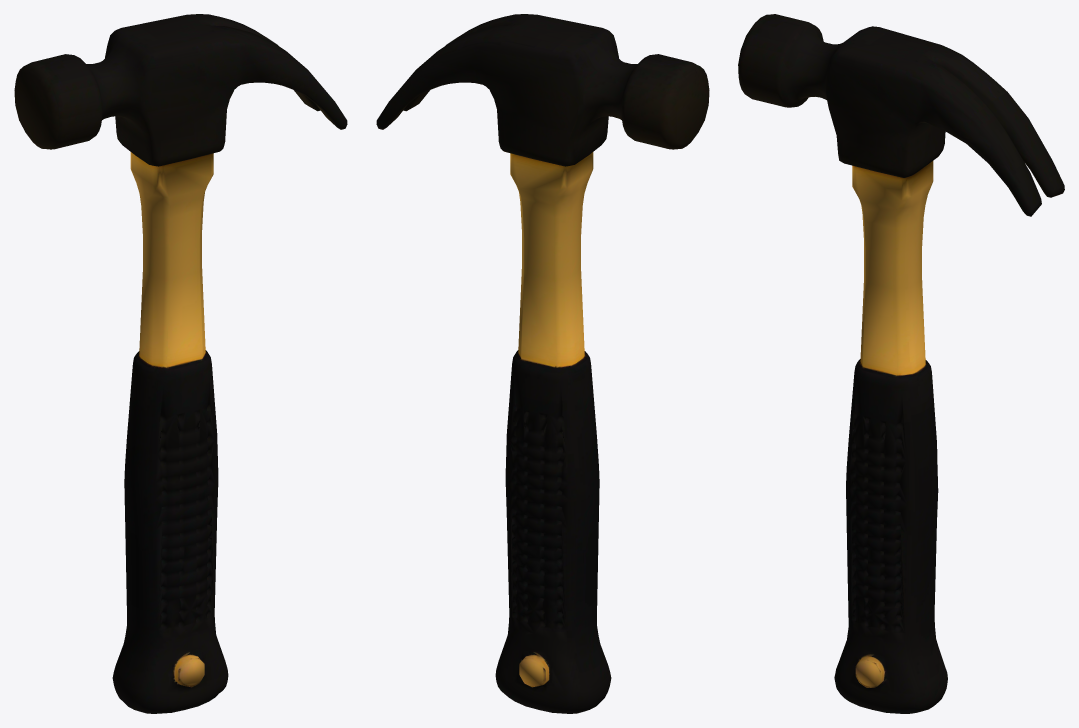
Rendered from Misc__hammer_dcec7540_v2.cluster.glb.
The picture shows the model from 3 angles, left to right: view 1: azimuth 30°, elevation 25°; view 2: azimuth 150°, elevation 25°; view 3: azimuth 330°, elevation 25°; orthographic projection.
Parts seen in each view (by area): view 1: material; view 2: material; view 3: material.
Boxes of the visible parts, x1,y1,x2,y2 form: material: (14,14,347,713); material: (376,14,709,713); material: (738,14,1064,713).
Size of the model in its own units: 0.8845 by 1.9 by 0.2362.
Materials: 1 (1 with a texture image).
